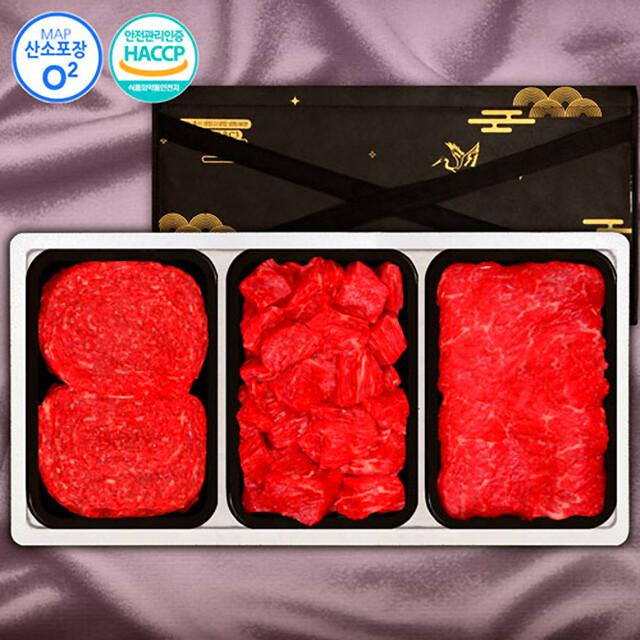beef: (37, 275, 212, 506), (251, 271, 407, 503), (441, 269, 595, 498)
